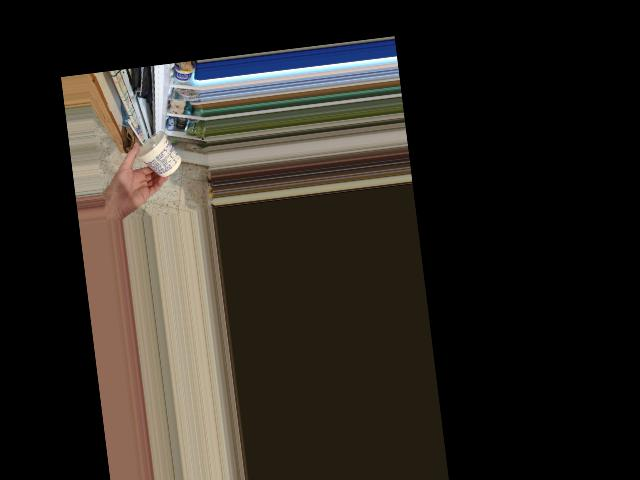cotage: (132, 126, 180, 174)
